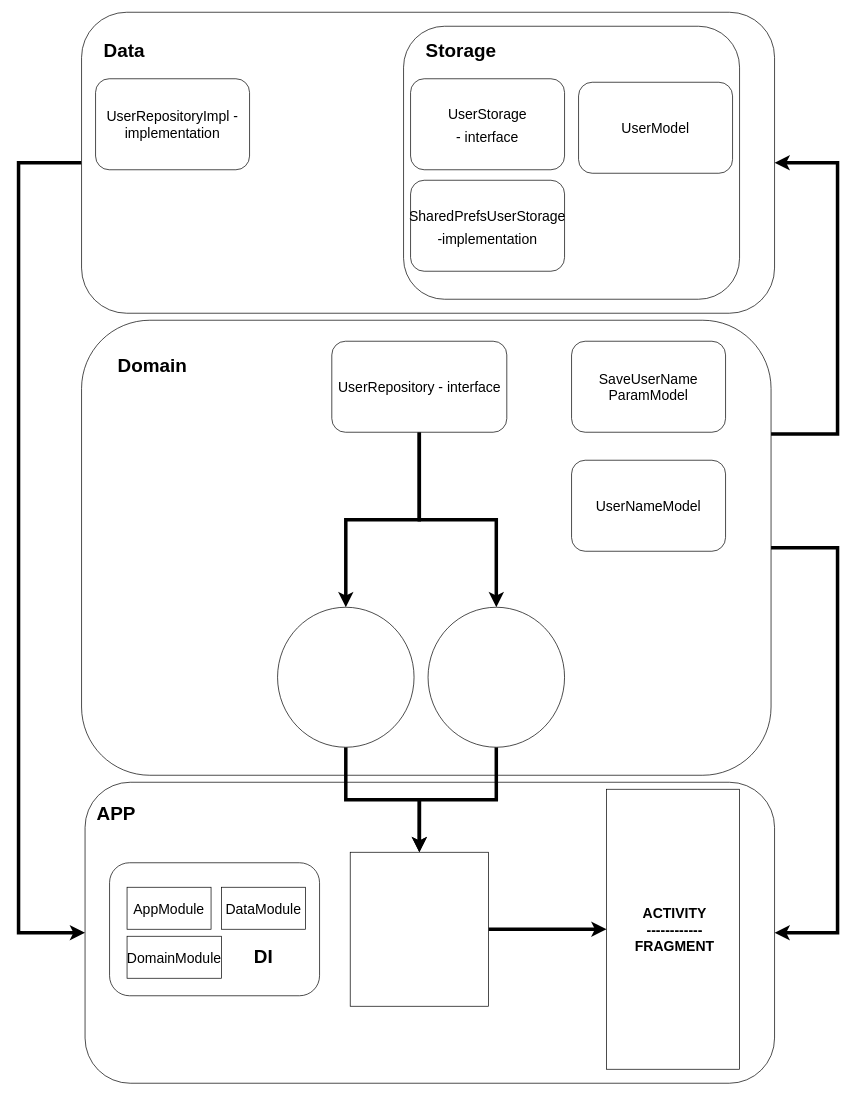
The diagram is 857 pixels wide and 1096 high, and some of its shapes have lost their labels. Here are the shapes that lost their labels. From the top down, the centre of each, then its label:
the point at 345,677: Guest
the point at 496,677: RegistredUser
the point at 419,929: View Model
